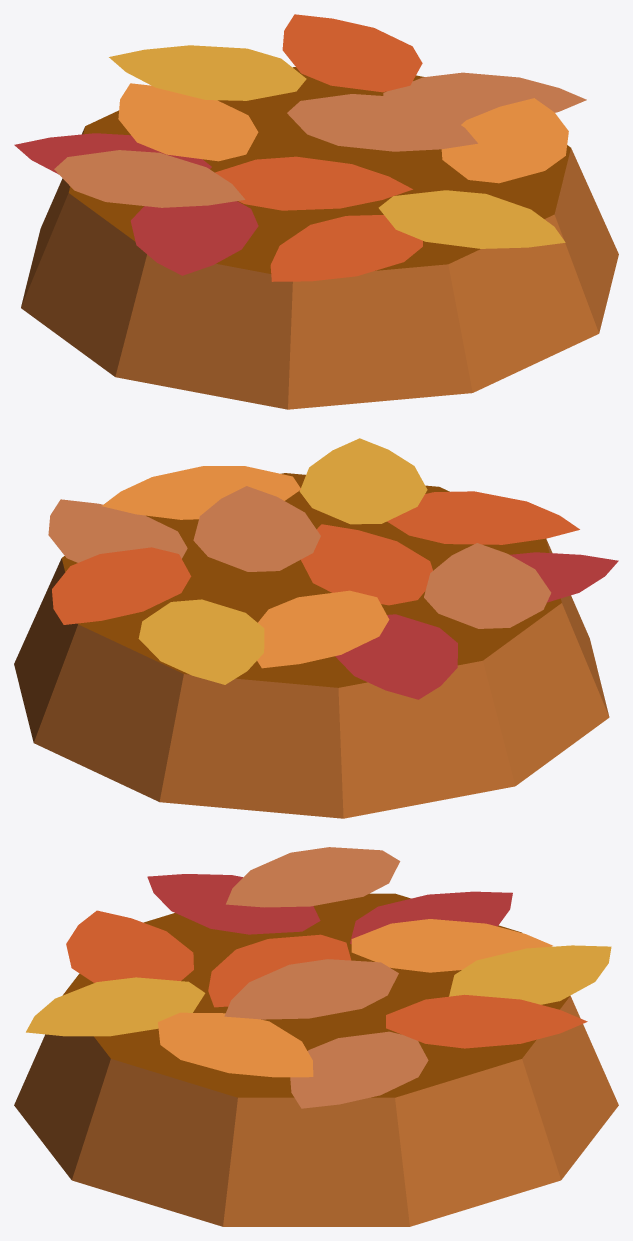
Rendered from leaf-base.glb.
3 renders of one model, top to bottom at view 1: azimuth 30°, elevation 25°; view 2: azimuth 150°, elevation 25°; view 3: azimuth 270°, elevation 25°, orthographic.
Visible parts, largest first — view 1: Object001; view 2: Object001; view 3: Object001.
Boxes of the visible parts, x1,y1,x2,y2 form: Object001: (14,14,618,409); Object001: (14,438,618,818); Object001: (14,847,618,1226).
Bounding box in the file's own units: 0.9661 × 0.2604 × 1.
